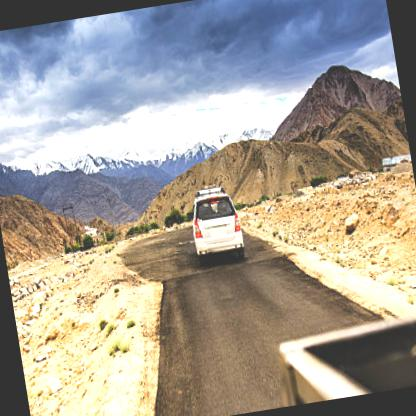car: (186, 183, 246, 264)
